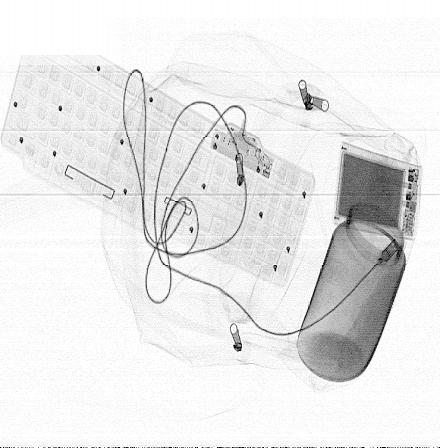Powerbank: (332, 138, 424, 244)
